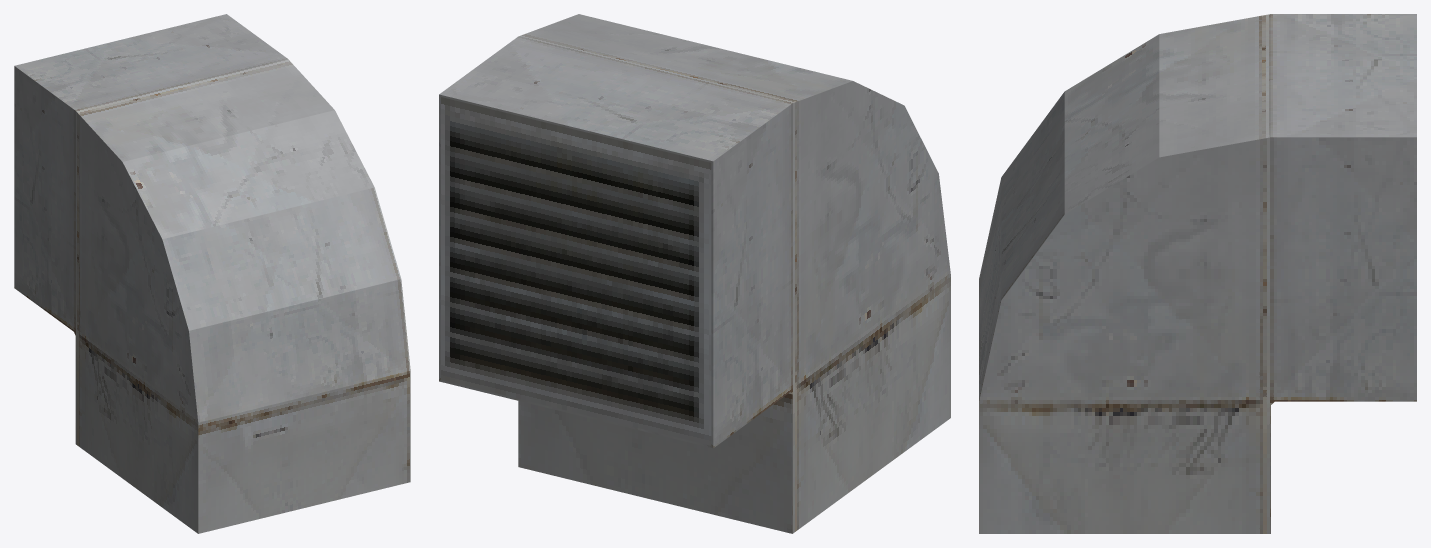
File: vent_connector_closed.glb
3 renders of one model, left to right at view 1: azimuth 30°, elevation 25°; view 2: azimuth 150°, elevation 25°; view 3: azimuth 270°, elevation 25°, orthographic. The views are drawn at different scales.
Visible parts, largest first — view 1: connector_closed; view 2: connector_closed; view 3: connector_closed.
Part boxes in pixels (bbox=[...]): connector_closed: bbox=[14, 14, 410, 533]; connector_closed: bbox=[439, 14, 950, 533]; connector_closed: bbox=[979, 14, 1416, 533].
Size of the model in its own units: 1 by 1.5 by 1.5.
1 material, 1 textured.
